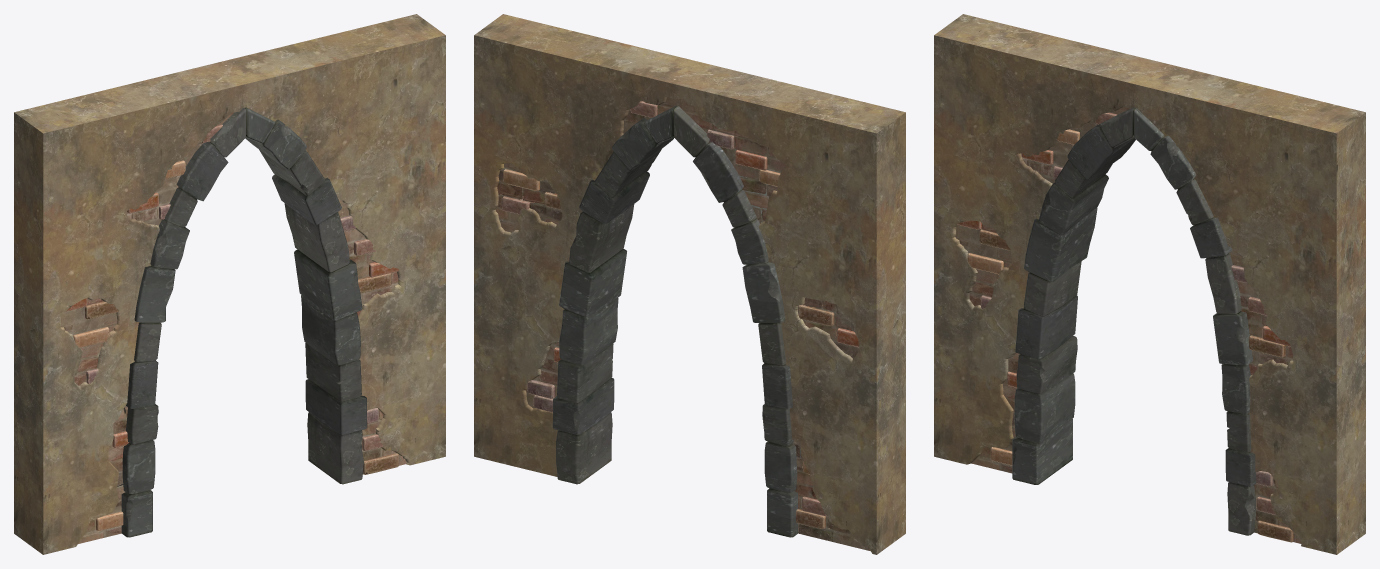
3 renders of one model, left to right at view 1: azimuth 30°, elevation 25°; view 2: azimuth 150°, elevation 25°; view 3: azimuth 330°, elevation 25°, orthographic.
Parts seen in each view (by area): view 1: SM_Human_Ruins_Arch_02_v1_LOD0; view 2: SM_Human_Ruins_Arch_02_v1_LOD0; view 3: SM_Human_Ruins_Arch_02_v1_LOD0.
Boxes of the visible parts, x1,y1,x2,y2 form: SM_Human_Ruins_Arch_02_v1_LOD0: (14,14,445,554); SM_Human_Ruins_Arch_02_v1_LOD0: (474,14,905,554); SM_Human_Ruins_Arch_02_v1_LOD0: (934,14,1365,554).
Size of the model in its own units: 4 by 4 by 0.6301.
Materials: 4 (4 with a texture image).
